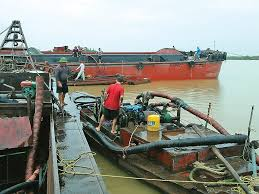tau_dansu: (68, 88, 259, 188), (31, 44, 234, 83)
